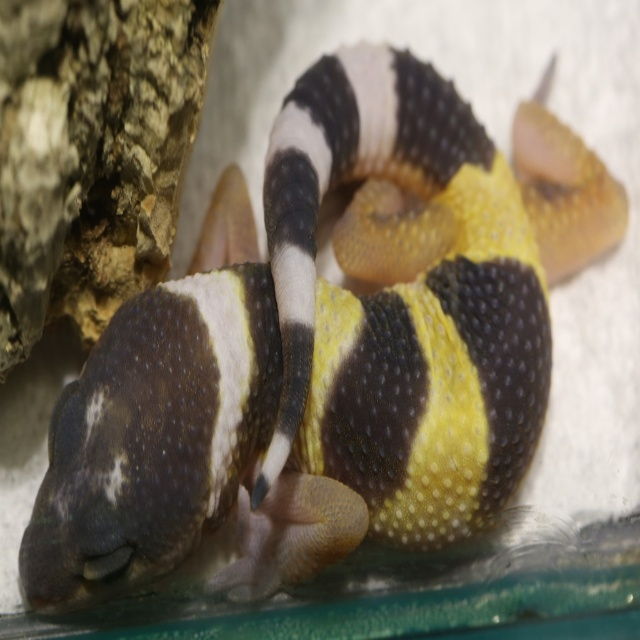Snake: (14, 34, 628, 631)
